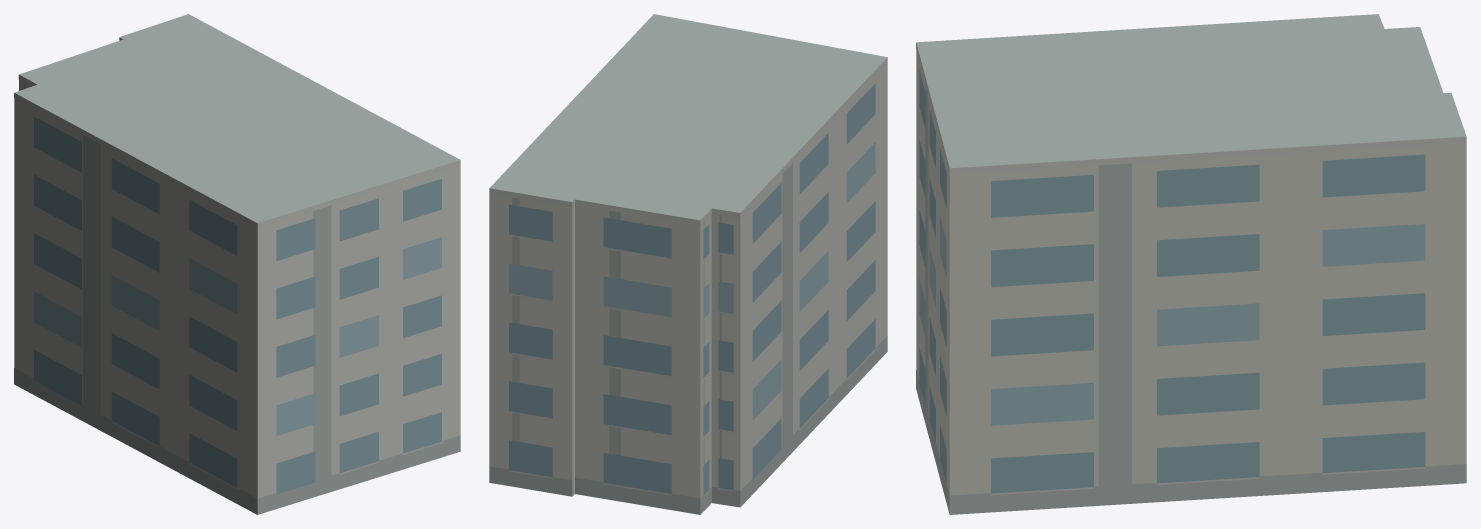
Rendered from survey-upis-32576773.glb.
3 views of the same model, side by side, from view 1: azimuth 30°, elevation 25°; view 2: azimuth 150°, elevation 25°; view 3: azimuth 270°, elevation 25° (orthographic). The views are drawn at different scales.
Parts seen in each view (by area): view 1: survey-upis-32576773.tmp; view 2: survey-upis-32576773.tmp; view 3: survey-upis-32576773.tmp.
Boxes of the visible parts, <box> form: survey-upis-32576773.tmp: <box>14,14,460,514</box>; survey-upis-32576773.tmp: <box>489,14,887,514</box>; survey-upis-32576773.tmp: <box>916,14,1466,514</box>.
Bounding box in the file's own units: 12.99 × 13.6 × 19.58.
